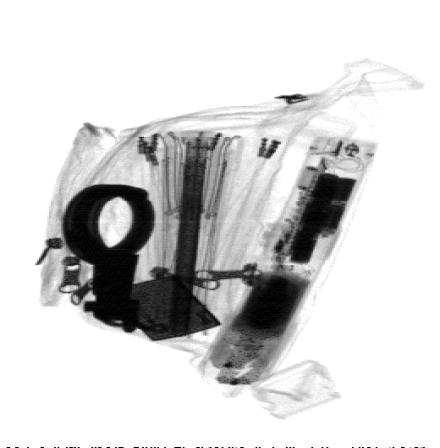Baton: (192, 137, 382, 386)
HandCuffs: (61, 183, 166, 336)
Lighter: (109, 274, 225, 342)
